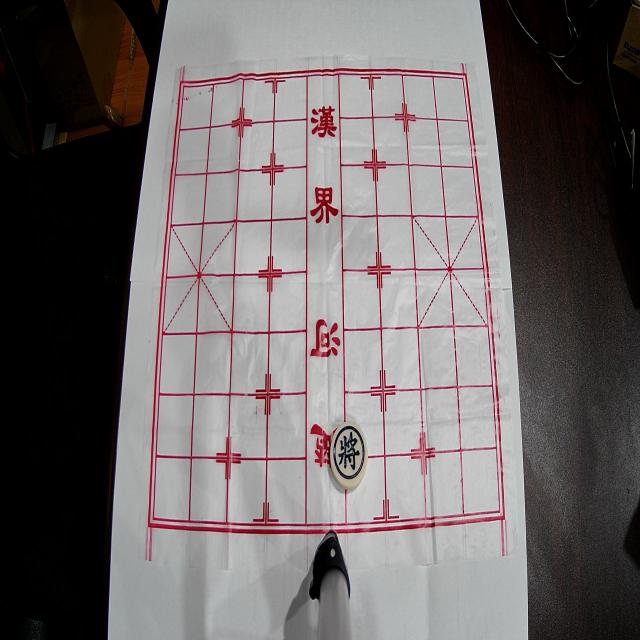black-general: (330, 422, 368, 489)
